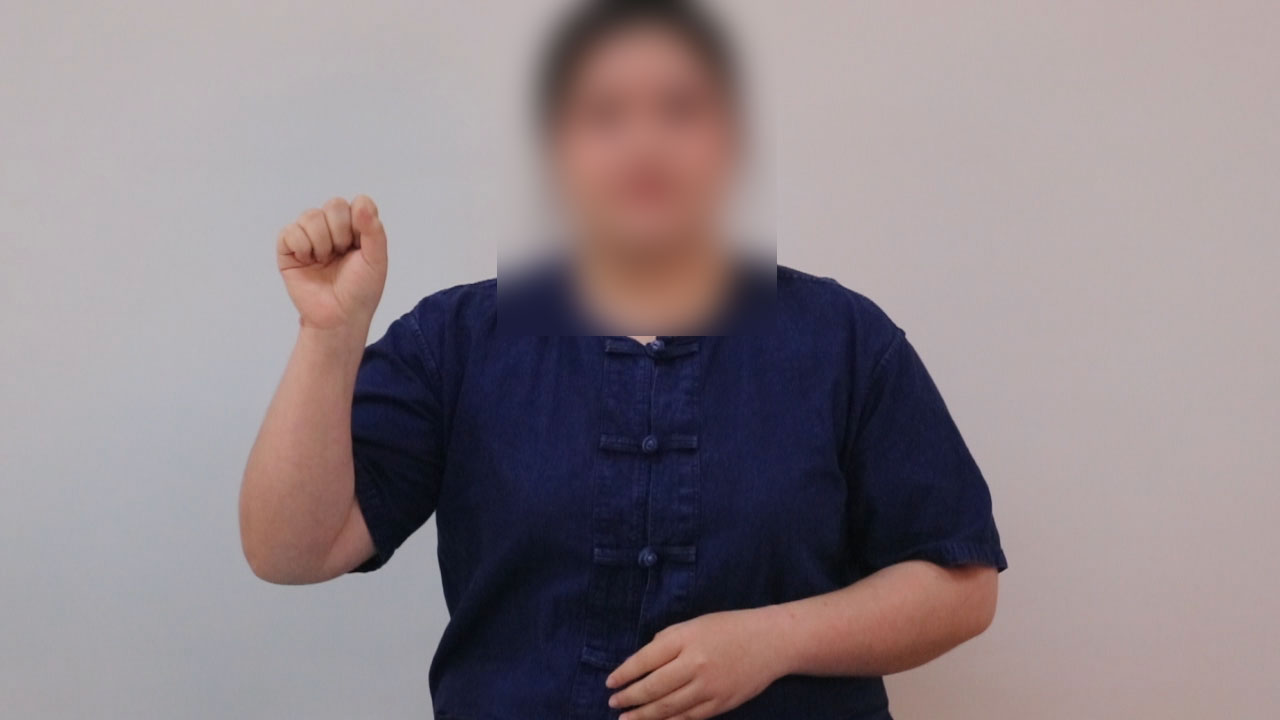sor: (260, 186, 405, 343)
